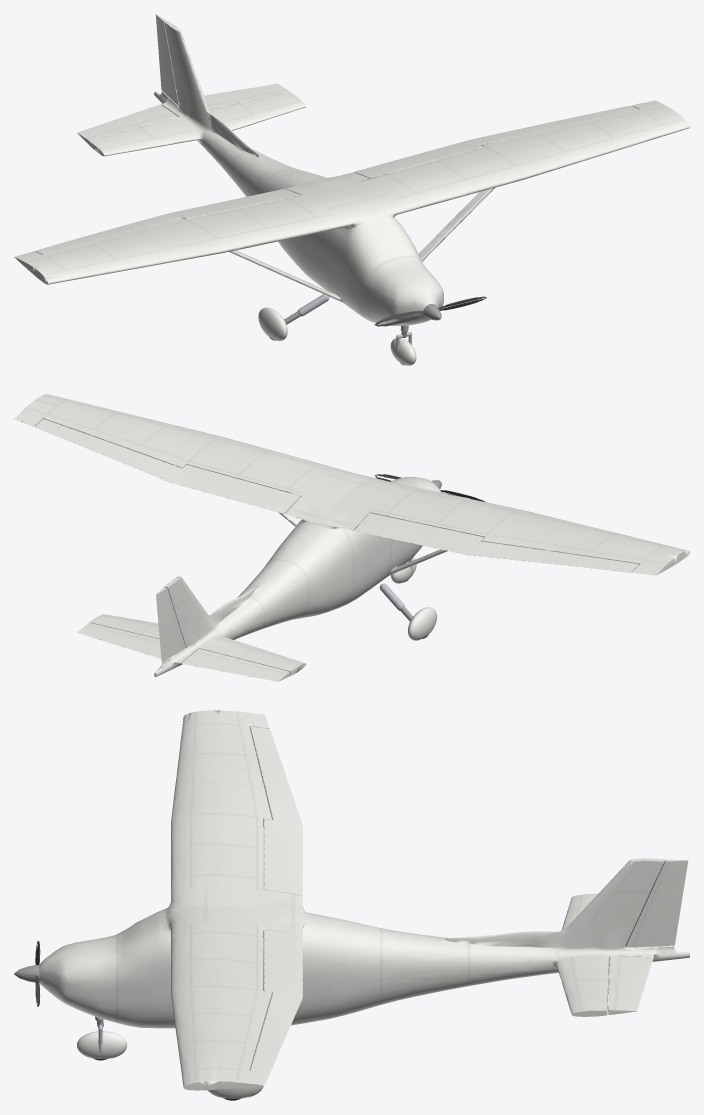
3 renders of one model, top to bottom at view 1: azimuth 30°, elevation 25°; view 2: azimuth 150°, elevation 25°; view 3: azimuth 270°, elevation 25°, orthographic. The views are drawn at different scales.
Parts seen in each view (by area): view 1: airframe, fsim:flaps (×2), fsim:elevator (×2), fsim:aileron (×2), fsim:rudder, fsim:propeller:0, fsim:oleo:2:2.10707, fsim:steer:0; view 2: airframe, fsim:flaps (×2), fsim:aileron (×2), fsim:elevator (×2), fsim:rudder, fsim:oleo:2:2.10707; view 3: airframe, fsim:flaps (×2), fsim:aileron (×2), fsim:rudder, fsim:elevator, fsim:steer:0.
Boxes of the visible parts, x1,y1,x2,y2 form: airframe: (14, 21, 689, 325); fsim:flaps (×2): (170, 140, 483, 219); fsim:elevator (×2): (77, 83, 289, 144); fsim:aileron (×2): (35, 105, 638, 254); fsim:rudder: (155, 14, 178, 105); fsim:propeller:0: (374, 296, 486, 326); fsim:oleo:2:2.10707: (258, 307, 300, 340); fsim:steer:0: (390, 332, 416, 365); airframe: (14, 394, 689, 676); fsim:flaps (×2): (170, 464, 483, 554); fsim:aileron (×2): (35, 419, 638, 572); fsim:elevator (×2): (77, 623, 290, 681); fsim:rudder: (156, 587, 185, 661); fsim:oleo:2:2.10707: (400, 606, 437, 640); airframe: (38, 710, 689, 1090); fsim:flaps (×2): (263, 819, 302, 997); fsim:aileron (×2): (250, 726, 302, 1073); fsim:rudder: (625, 859, 688, 947); fsim:elevator: (608, 956, 653, 1014); fsim:steer:0: (77, 1021, 127, 1058).
Size of the model in its own units: 10.97 by 2.76 by 8.46.
4 materials, 1 textured.
